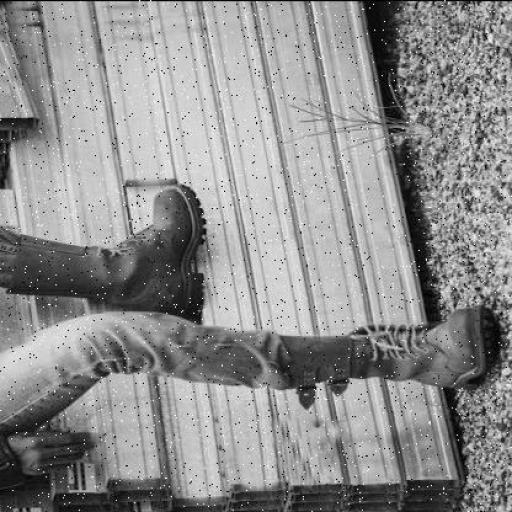safety_shoe: (2, 182, 223, 312), (292, 305, 488, 394)
